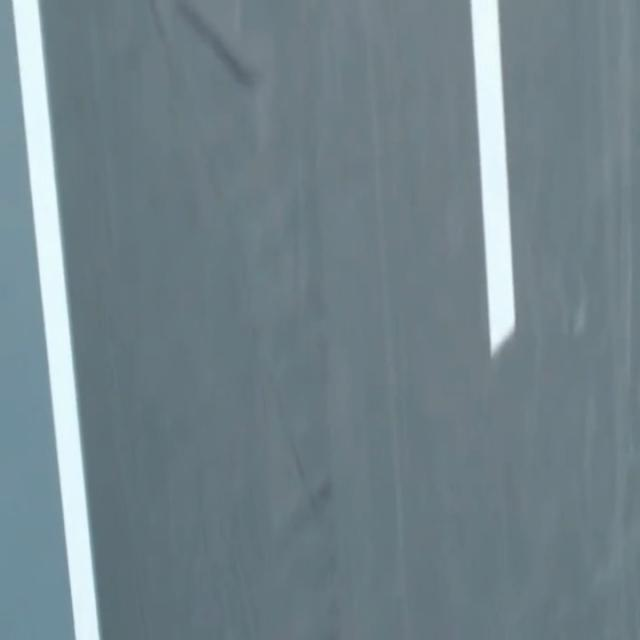center: (470, 0, 516, 356)
left: (12, 0, 100, 639)
